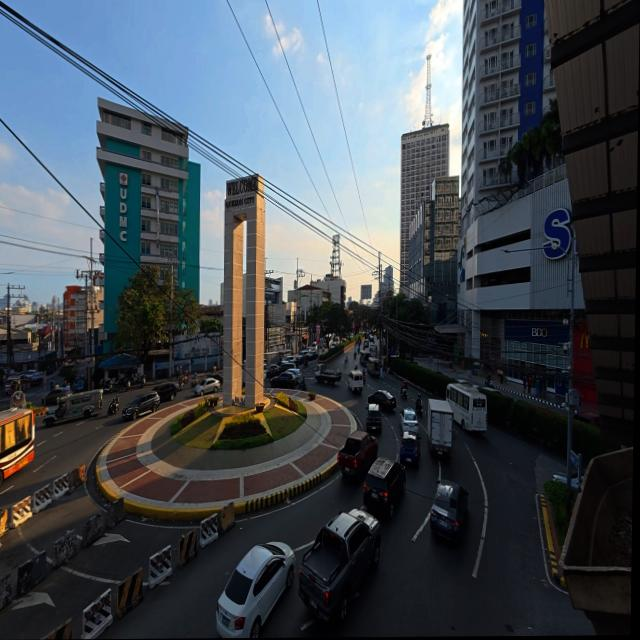bus: (446, 381, 490, 434)
car: (121, 392, 161, 421), (367, 391, 397, 413), (348, 371, 365, 393)
trucks: (298, 508, 382, 627)
